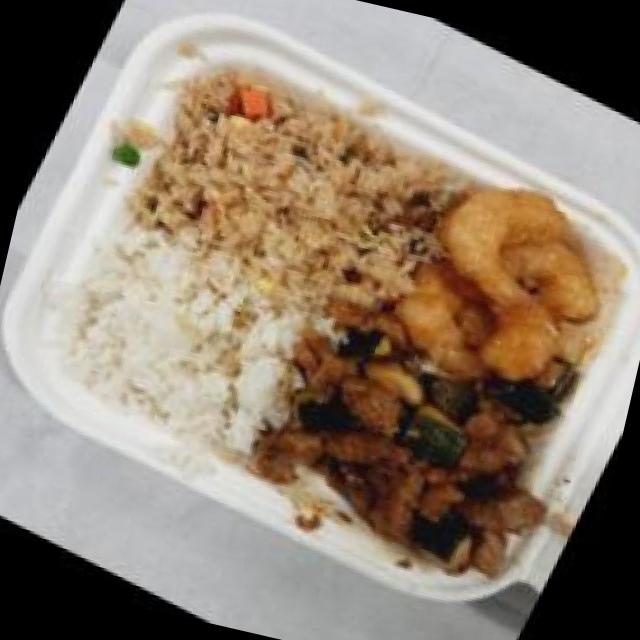Fried Rice: (103, 39, 461, 360)
Honey Walnut Shrimp: (350, 142, 640, 448)
Kung Pao Chicken: (222, 288, 606, 619)
White Steamed Rice: (23, 214, 328, 486)
